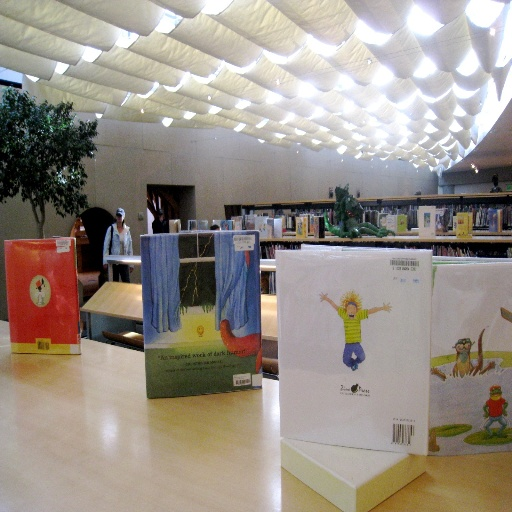hand: (382, 300, 392, 311), (318, 291, 328, 301), (128, 267, 133, 275), (102, 263, 107, 270)
